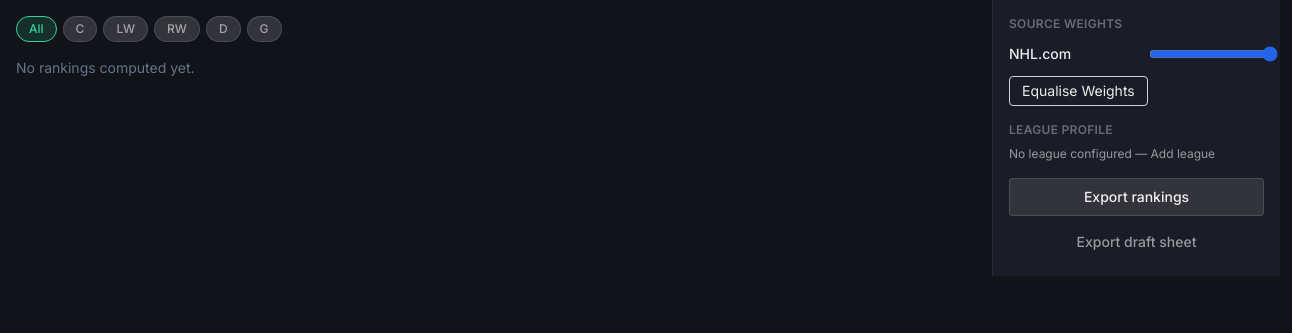
Scenario: PreDraftWorkspace › directs users to recompute missing export context
What coordinates should you click on to do the following:
click the button "Export rankings"
I would click on:
 (1136, 197)
Its box is x1=1009 y1=178 x2=1264 y2=216.
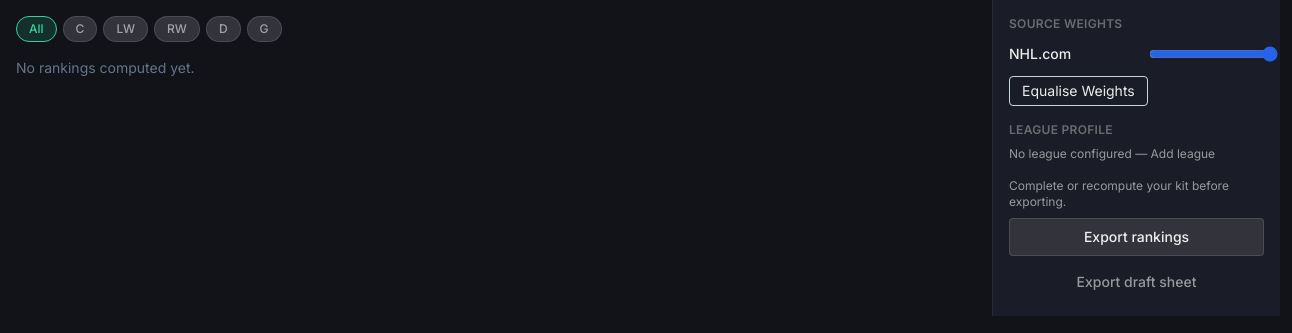
expect the text "Complete or recompute your kit before exporting." is shown: met, box x1=1009 y1=178 x2=1264 y2=210
